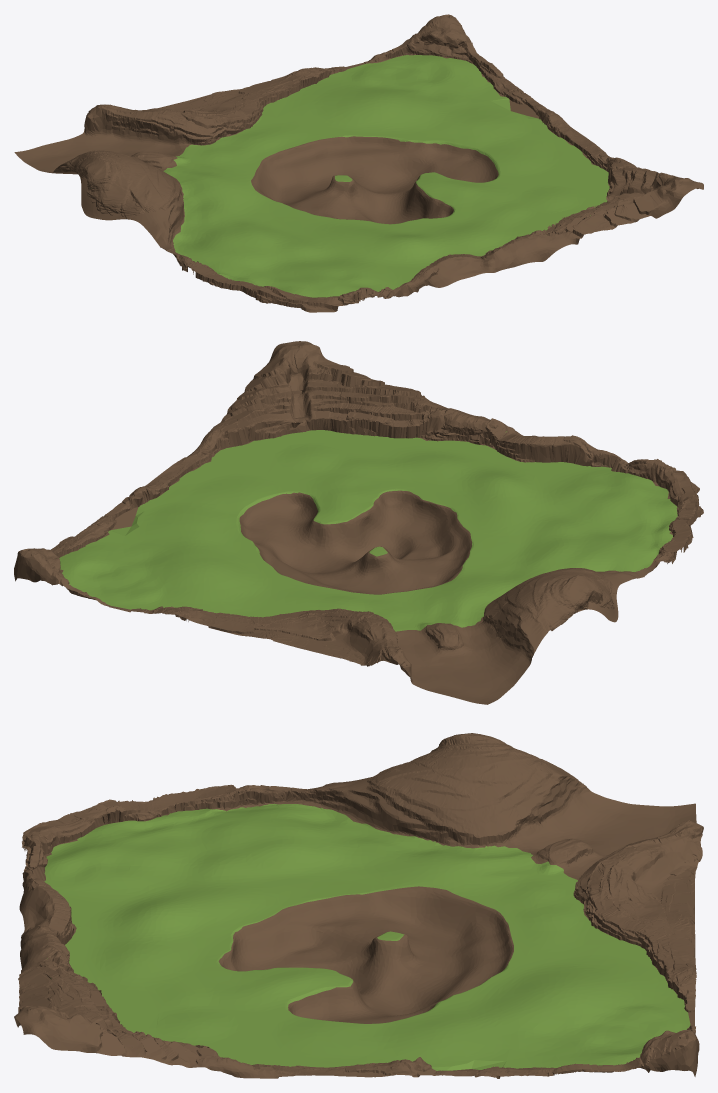
Rendered from MapR1.fbx.
The picture shows the model from 3 angles, top to bottom: view 1: azimuth 30°, elevation 25°; view 2: azimuth 150°, elevation 25°; view 3: azimuth 270°, elevation 25°; orthographic projection. The views are drawn at different scales.
Visible parts, largest first — view 1: Plane; view 2: Plane; view 3: Plane.
Part boxes in pixels (x1=…): Plane: x1=14, y1=14, x2=703, y2=312; Plane: x1=14, y1=341, x2=703, y2=704; Plane: x1=14, y1=733, x2=703, y2=1078.
Size of the model in its own units: 10709 by 1757 by 10298.
1 material, 1 textured.
